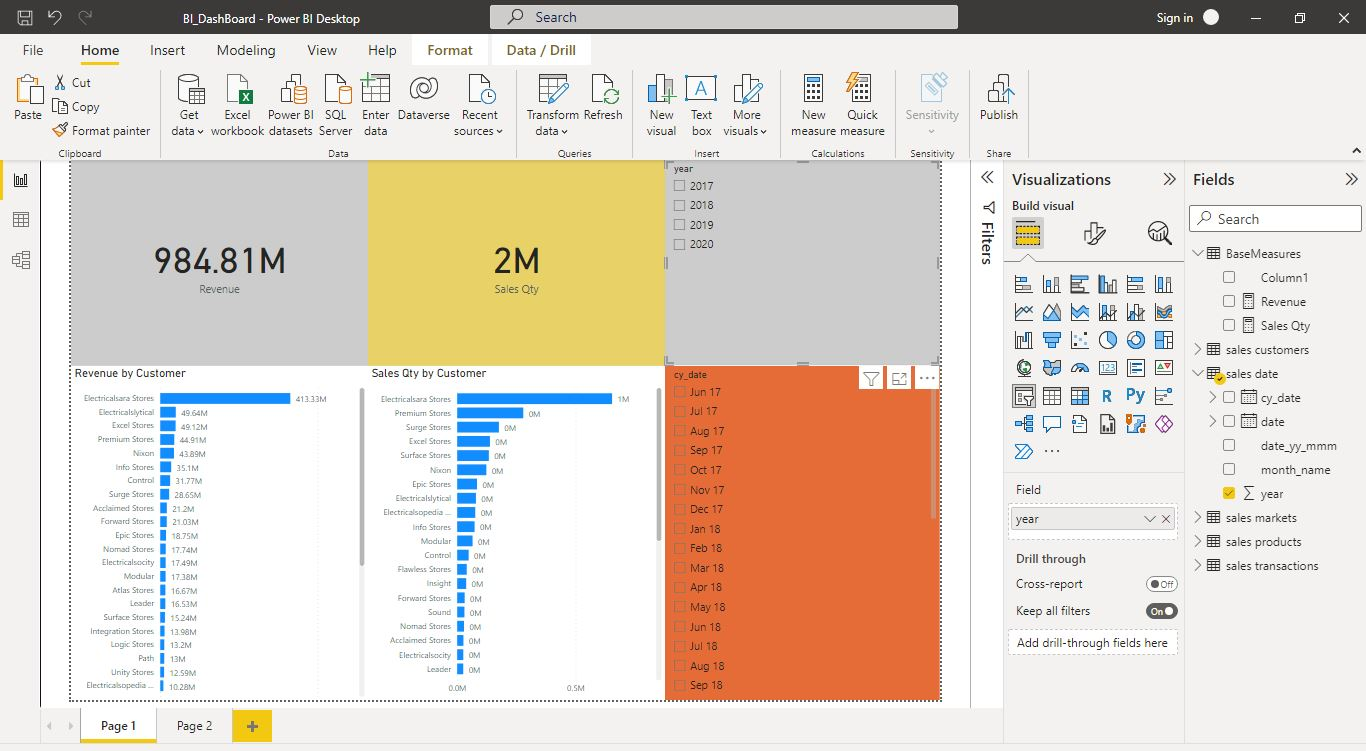

The page's visual inventory and layout, read from the dashboard file:
{"tool":"powerbi","page":{"name":"Page 1","canvas":[1287,800],"ordinal":0},"visuals":[{"type":"card","fields":{"Values":["BaseMeasures.Revenue"]},"box":[0,0,440,305.2],"z":0},{"type":"card","fields":{"Values":["BaseMeasures.Sales Qty"]},"box":[440,0,440,305.2],"z":1000},{"type":"barChart","title":"Revenue by Customer","fields":{"Y":["BaseMeasures.Revenue"],"Category":["sales customers.custmer_name"]},"box":[0,304.5,439.8,519.3],"z":2000},{"type":"barChart","title":"Sales Qty by Customer","fields":{"Y":["BaseMeasures.Sales Qty"],"Category":["sales customers.custmer_name"]},"box":[440,305.2,440,494.8],"z":3000},{"type":"slicer","fields":{"Values":["sales date.year"]},"box":[880,0,407.4,303.7],"z":4000},{"type":"slicer","fields":{"Values":["sales date.cy_date"]},"box":[880,305.2,407.4,494.8],"z":5000}]}

Visuals, with their boxes on the page's 1287x800 design canvas (x1, y1, x2, y2). These are canvas units, not pixel positions in the 1366x751 screenshot, which may show the page scaled, cropped or inside an application window:
card - BaseMeasures.Revenue: 0/0/440/305
card - BaseMeasures.Sales Qty: 440/0/880/305
"Revenue by Customer" barChart: 0/304/440/824
"Sales Qty by Customer" barChart: 440/305/880/800
slicer - sales date.year: 880/0/1287/304
slicer - sales date.cy_date: 880/305/1287/800
